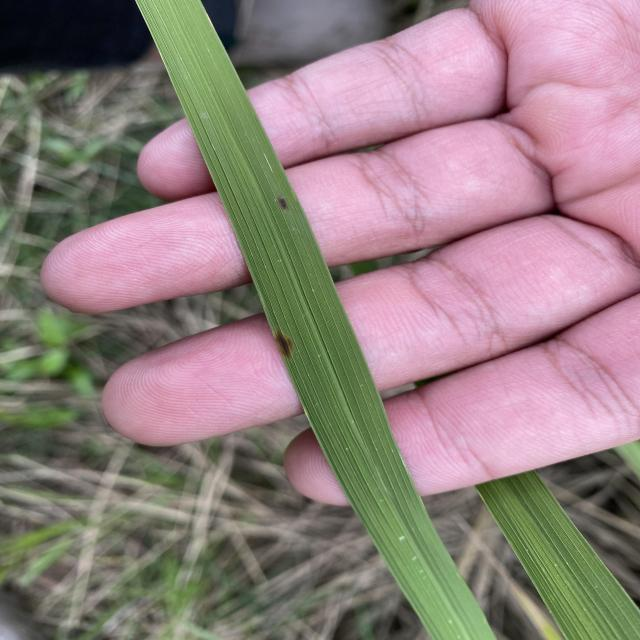Dom nau: (272, 329, 295, 362), (272, 194, 291, 213)
